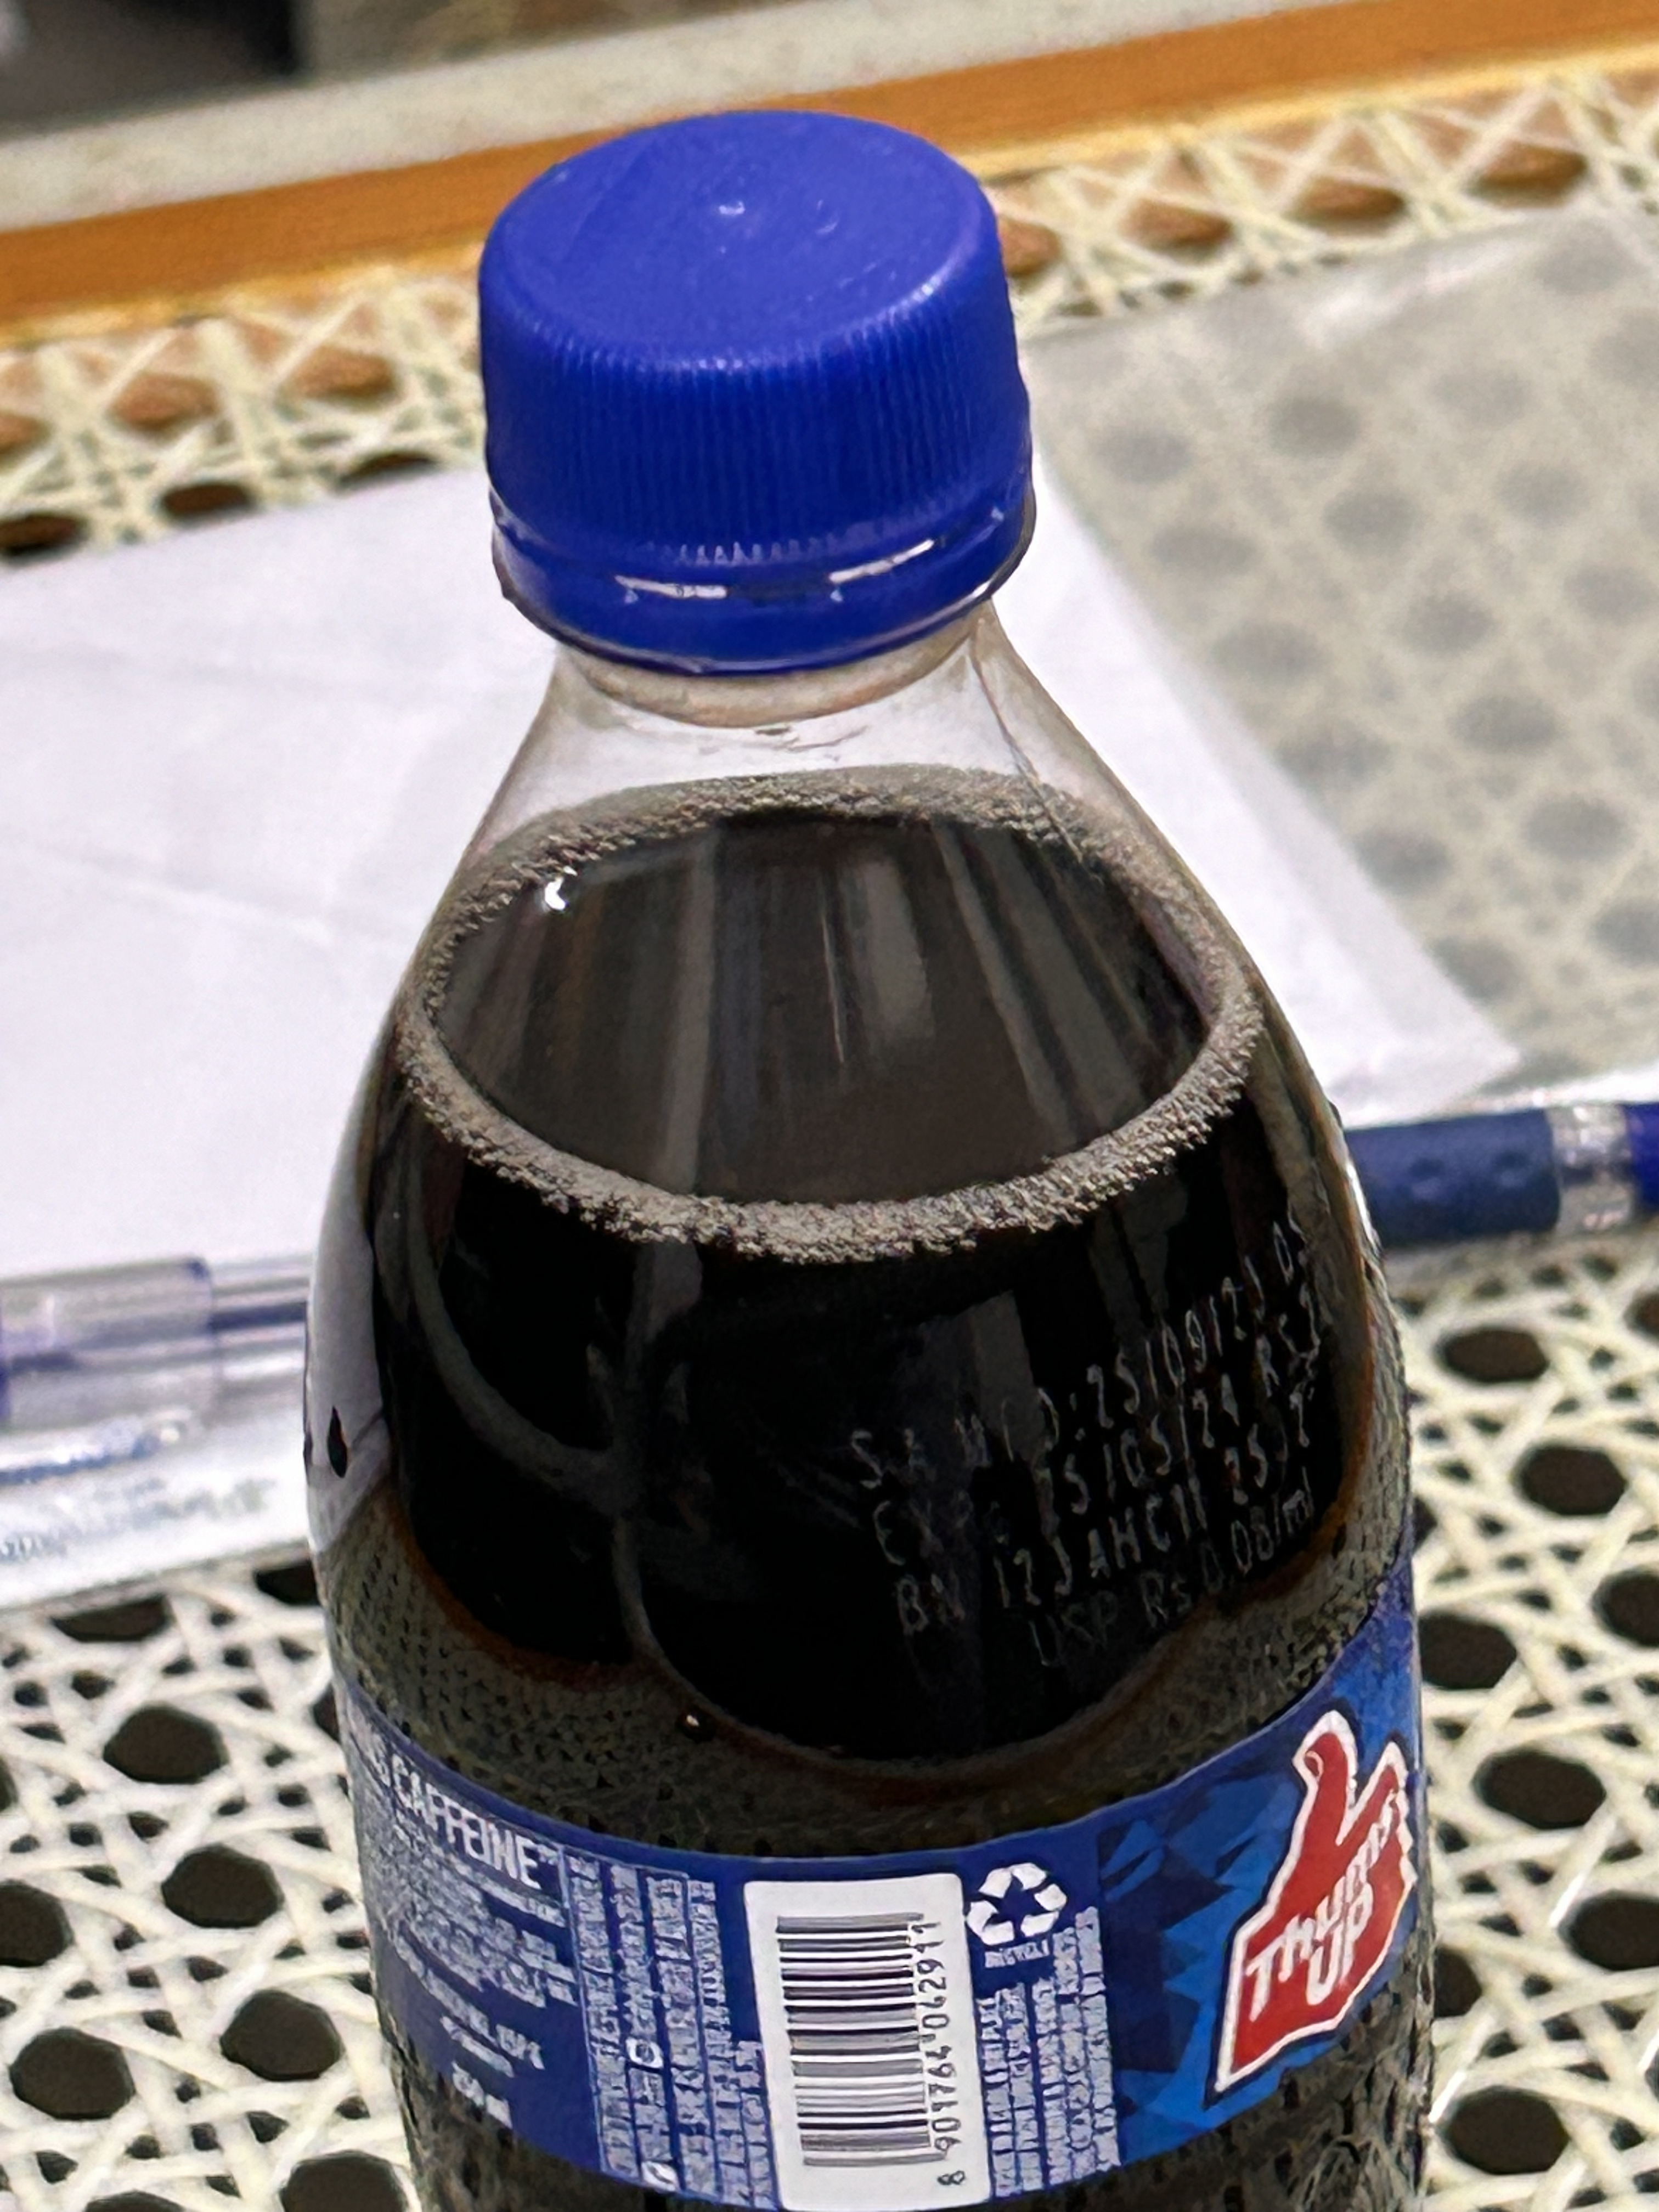unsealed: (446, 96, 1054, 759)
